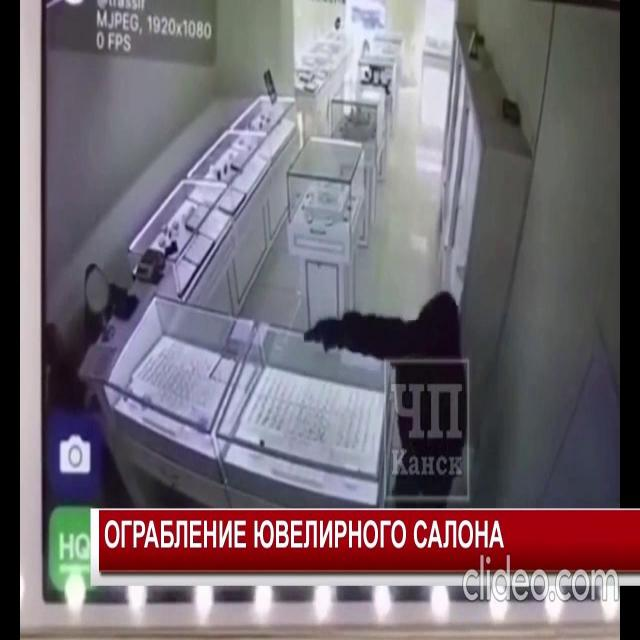gun: (303, 288, 468, 506), (304, 309, 328, 349)
